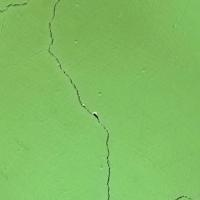crack: (40, 0, 135, 168)
